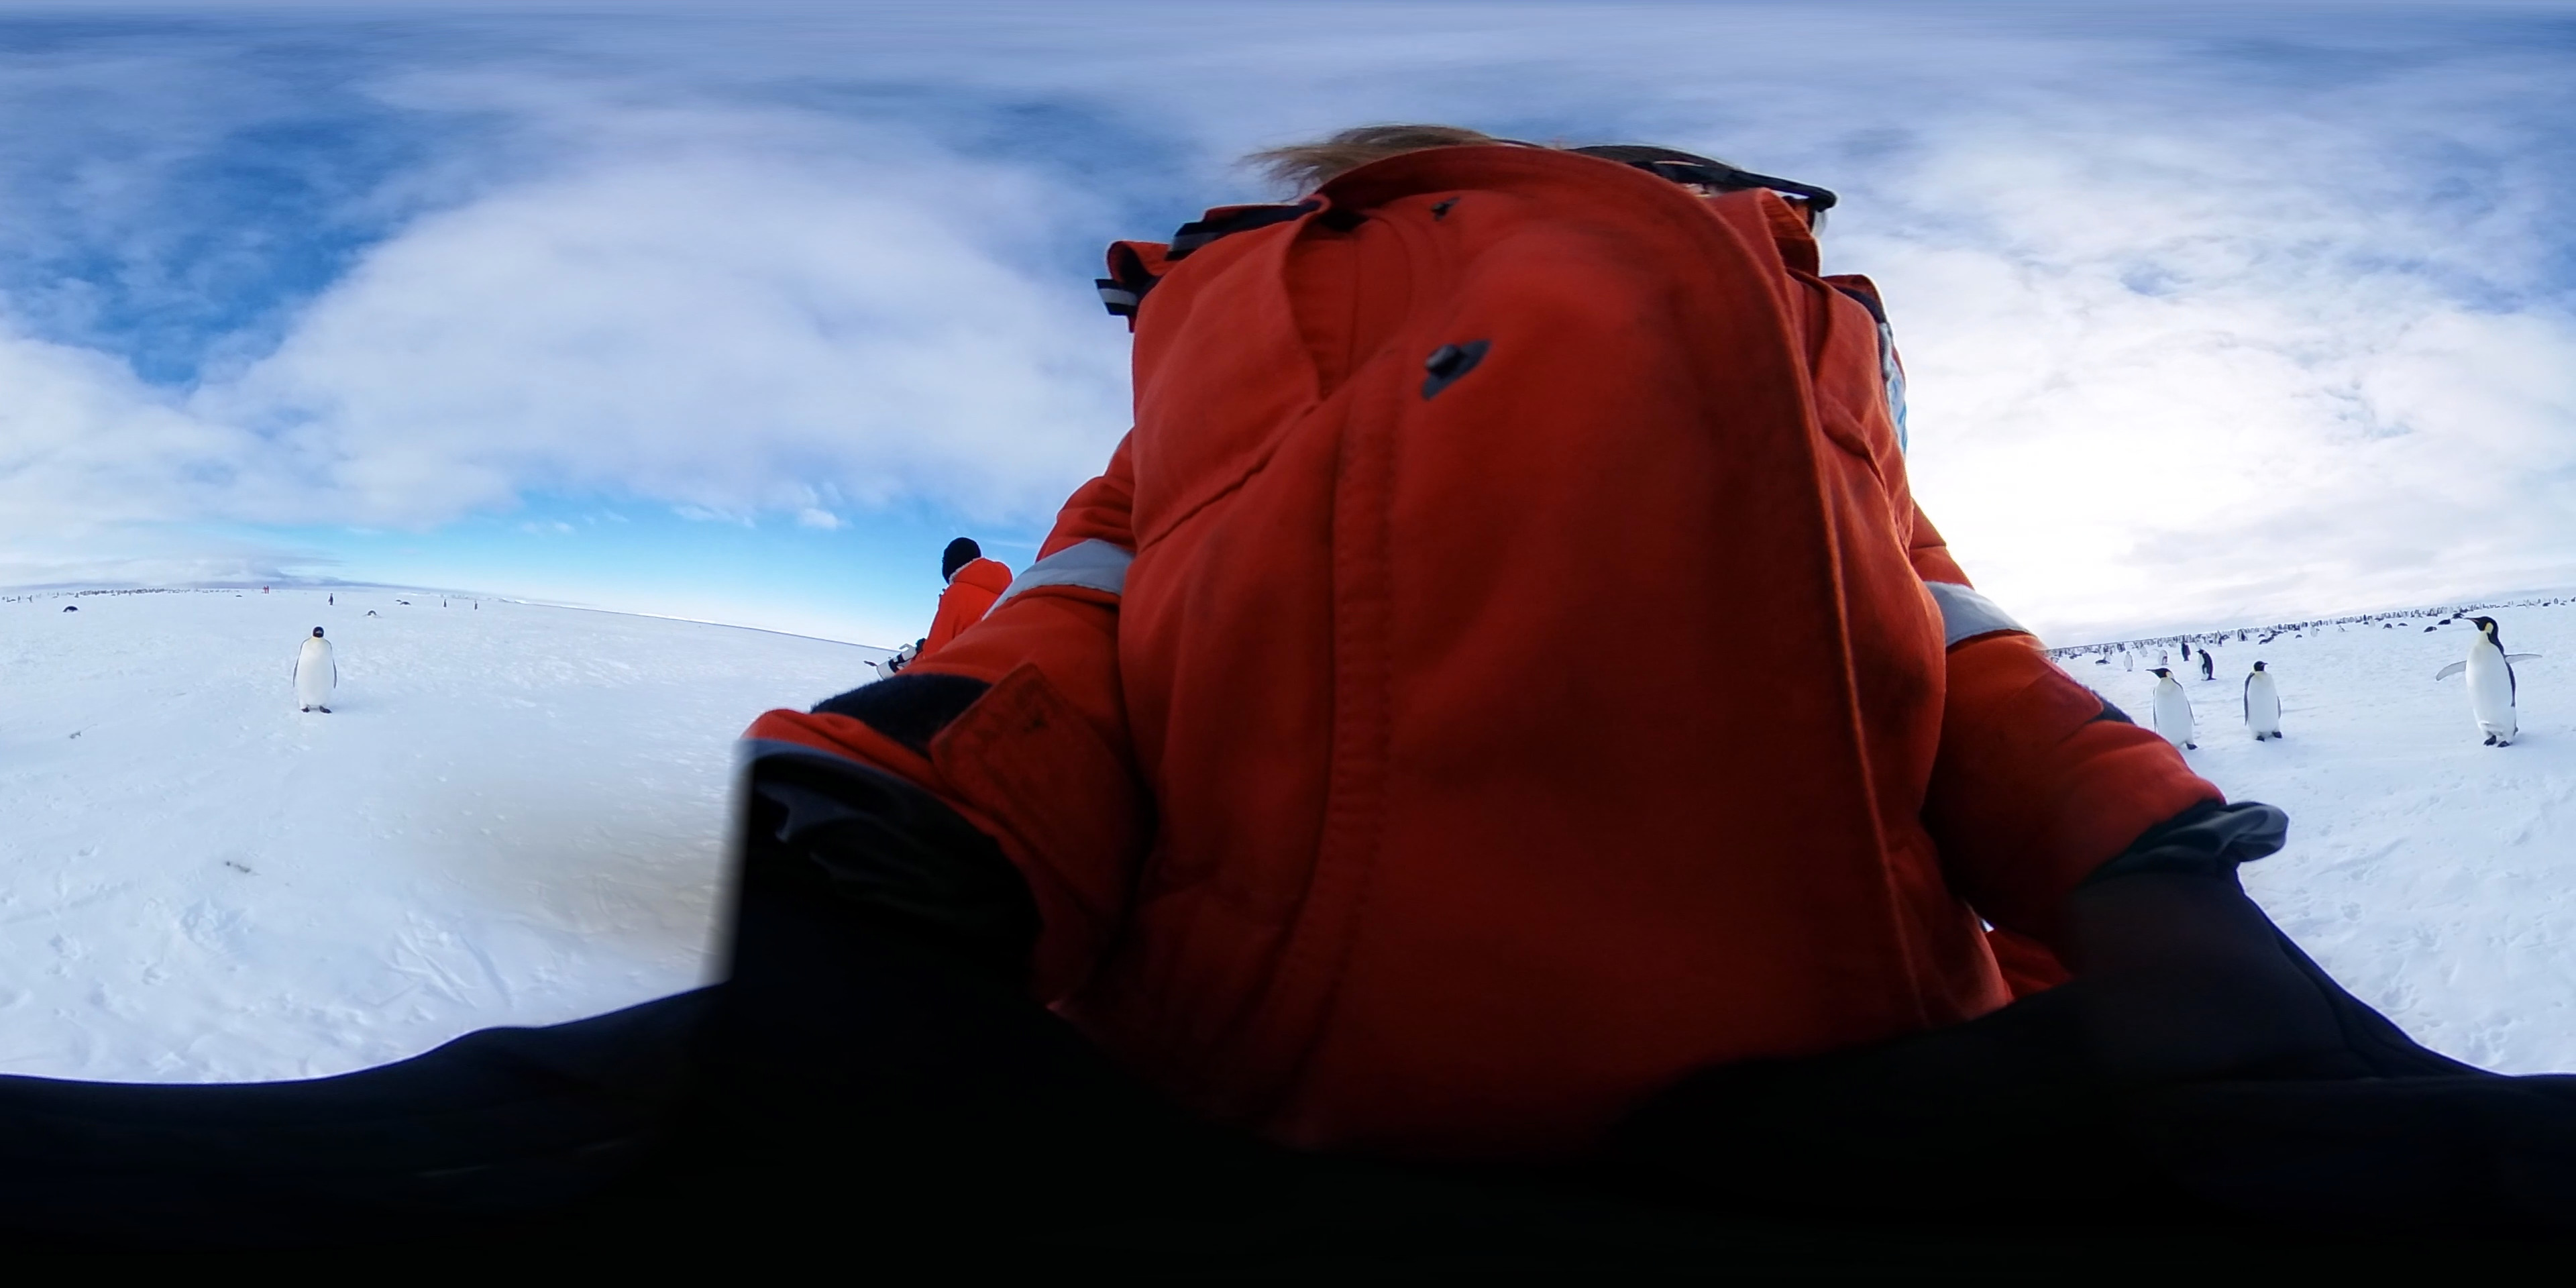adult_standing_penguin: (2431, 613, 2525, 751), (291, 623, 343, 720), (2144, 664, 2198, 756), (2239, 655, 2288, 744), (2195, 647, 2219, 683), (2119, 649, 2136, 675)
adult_toboggan_penguin: (358, 608, 383, 621), (2423, 623, 2436, 634)
researcher: (1033, 95, 2192, 1288), (895, 529, 1017, 692)
